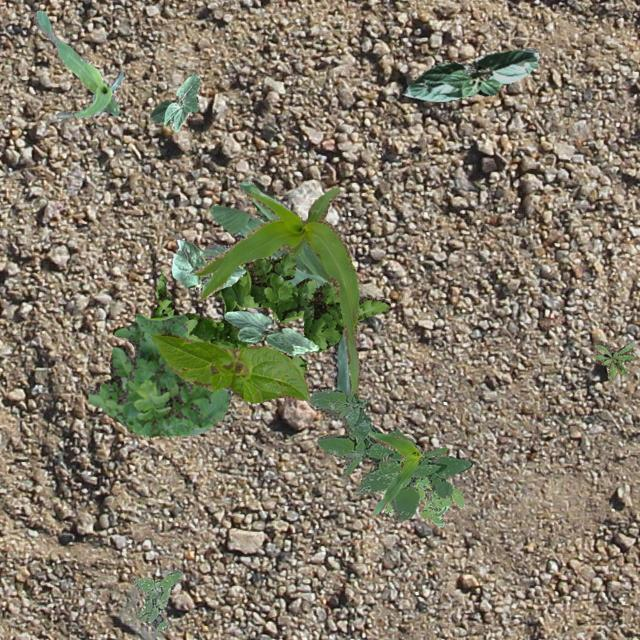crop: (192, 186, 358, 398), (202, 180, 351, 396), (150, 332, 308, 402), (32, 9, 124, 118), (401, 46, 538, 102), (368, 430, 447, 514), (222, 308, 318, 354), (172, 238, 244, 292), (148, 72, 198, 130)
weed: (150, 252, 390, 378), (308, 388, 472, 520), (88, 313, 230, 437), (384, 474, 464, 526), (130, 570, 182, 630), (592, 338, 634, 378)
